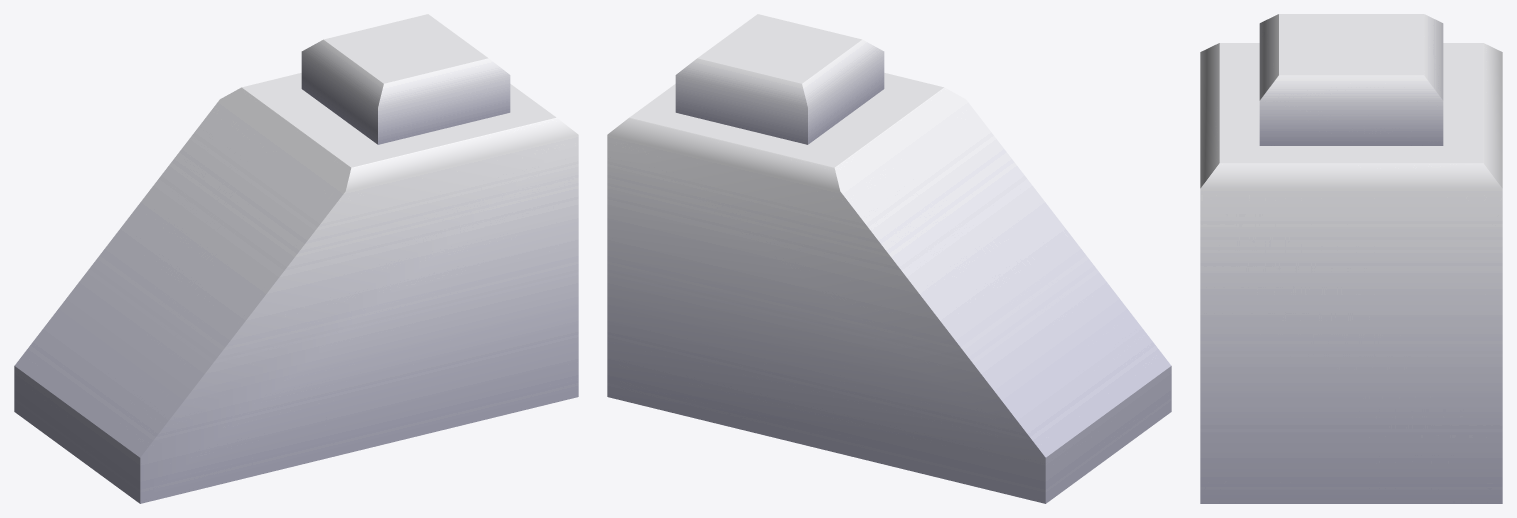
The model's file is brick-kit--square-hq-brick-slope-1x2.glb.
3 renders of one model, left to right at view 1: azimuth 30°, elevation 25°; view 2: azimuth 150°, elevation 25°; view 3: azimuth 270°, elevation 25°, orthographic. The views are drawn at different scales.
Parts seen in each view (by area): view 1: square-hq-brick-slope-1x2; view 2: square-hq-brick-slope-1x2; view 3: square-hq-brick-slope-1x2.
Boxes of the visible parts, x1,y1,x2,y2 form: square-hq-brick-slope-1x2: (14,14,578,503); square-hq-brick-slope-1x2: (607,14,1171,503); square-hq-brick-slope-1x2: (1200,14,1502,503).
Size of the model in its own units: 0.159 by 0.114 by 0.079.
Materials: 1 (1 with a texture image).
